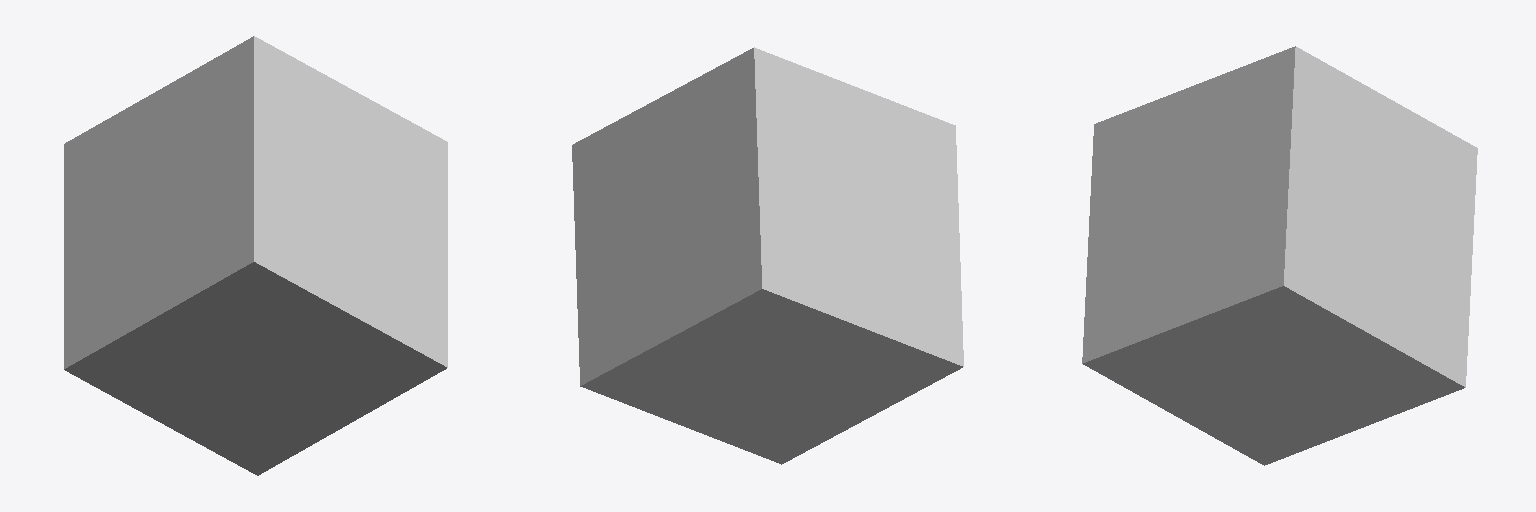
The model's file is cubeRotSimp.obj.
3 renders of one model, left to right at view 1: azimuth 30°, elevation 25°; view 2: azimuth 150°, elevation 25°; view 3: azimuth 270°, elevation 25°, orthographic.
Visible parts, largest first — view 1: Cube.002; view 2: Cube.002; view 3: Cube.002.
Part boxes in pixels (left/top/right/bottom): Cube.002: left=64, top=36, right=447, bottom=475; Cube.002: left=572, top=47, right=963, bottom=464; Cube.002: left=1082, top=46, right=1477, bottom=465.
Size of the model in its own units: 3.3 by 3.45 by 2.91.